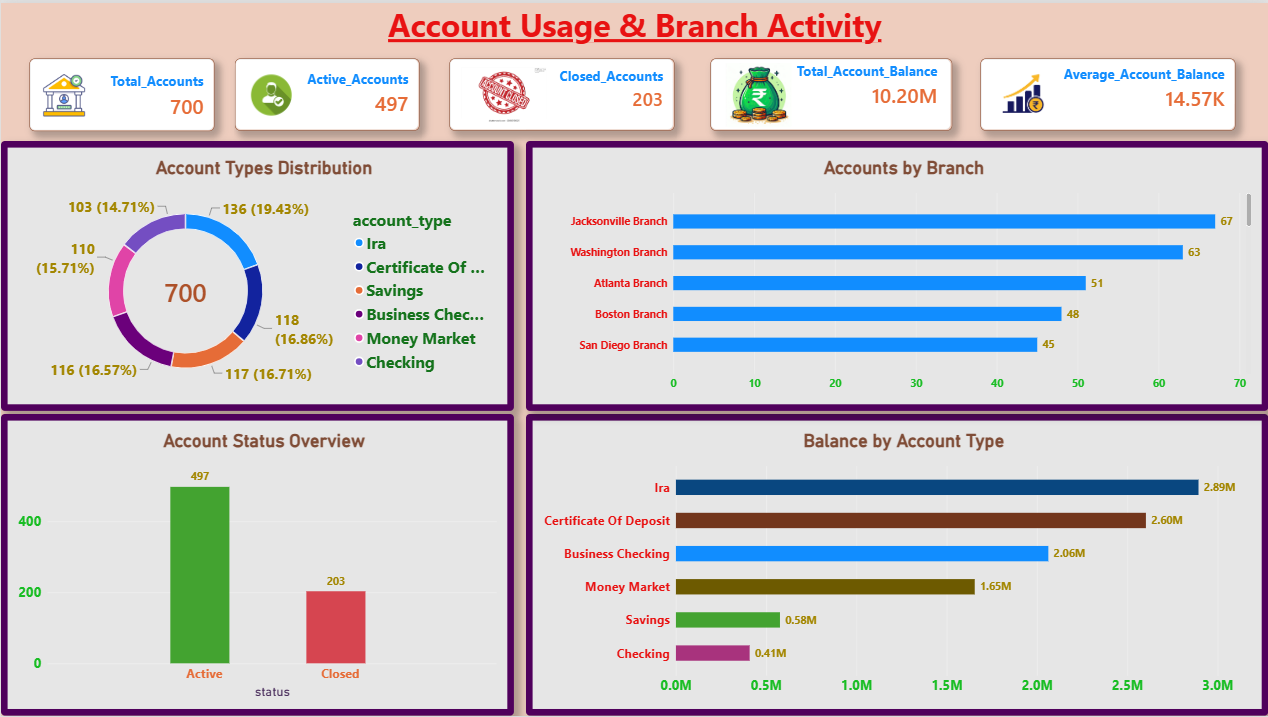

Layout of this report page (visuals, bound fields, positions):
{"tool":"powerbi","page":{"name":"Account Usage & Branch Activity","canvas":[1920,1080],"ordinal":2},"visuals":[{"type":"cardVisual","fields":{"Data":["accounts.Total_Accounts"]},"box":[43.2,84,280,110],"z":0},{"type":"cardVisual","fields":{"Data":["accounts.Active_Accounts"]},"box":[354.3,84,279.4,109],"z":1000},{"type":"cardVisual","fields":{"Data":["accounts.Closed_Accounts"]},"box":[679.1,84,340.7,109],"z":2000},{"type":"cardVisual","fields":{"Data":["accounts.Average_Account_Balance"]},"box":[1483.2,84,386.1,109],"z":3000},{"type":"cardVisual","fields":{"Data":["accounts.Total_Account_Balance"]},"box":[1074.3,84,365.7,109],"z":4000},{"type":"donutChart","title":"Account Types Distribution","fields":{"Category":["accounts.account_type"],"Y":["Count(accounts.account_id)"]},"box":[0,209,776.8,408.8],"z":5000},{"type":"columnChart","title":"Account Status Overview","fields":{"Category":["accounts.status"],"Y":["Count(accounts.account_id)"]},"box":[0,622.3,776.8,456.5],"z":6000},{"type":"clusteredBarChart","title":"Balance by Account Type","fields":{"Category":["accounts.account_type"],"Y":["Sum(accounts.current_balance)"]},"box":[795,622.3,1124.3,456.5],"z":7000},{"type":"barChart","title":"Accounts by Branch","fields":{"Category":["branches.branch_name"],"Y":["CountNonNull(accounts.account_id)"]},"box":[795,209,1124.3,408.8],"z":8000},{"type":"textbox","box":[0,0,1919.3,84],"z":9000}]}

Visuals, with their boxes in screenshot pixels (x1, y1, x2, y2), scaled from the page's 1920x1080 canvas onto the 1268x717 screenshot:
cardVisual - accounts.Total_Accounts: <bbox>29, 56, 213, 129</bbox>
cardVisual - accounts.Active_Accounts: <bbox>234, 56, 419, 128</bbox>
cardVisual - accounts.Closed_Accounts: <bbox>448, 56, 673, 128</bbox>
cardVisual - accounts.Average_Account_Balance: <bbox>980, 56, 1235, 128</bbox>
cardVisual - accounts.Total_Account_Balance: <bbox>709, 56, 951, 128</bbox>
"Account Types Distribution" donutChart: <bbox>0, 139, 513, 410</bbox>
"Account Status Overview" columnChart: <bbox>0, 413, 513, 716</bbox>
"Balance by Account Type" clusteredBarChart: <bbox>525, 413, 1267, 716</bbox>
"Accounts by Branch" barChart: <bbox>525, 139, 1267, 410</bbox>
textbox: <bbox>0, 0, 1267, 56</bbox>
